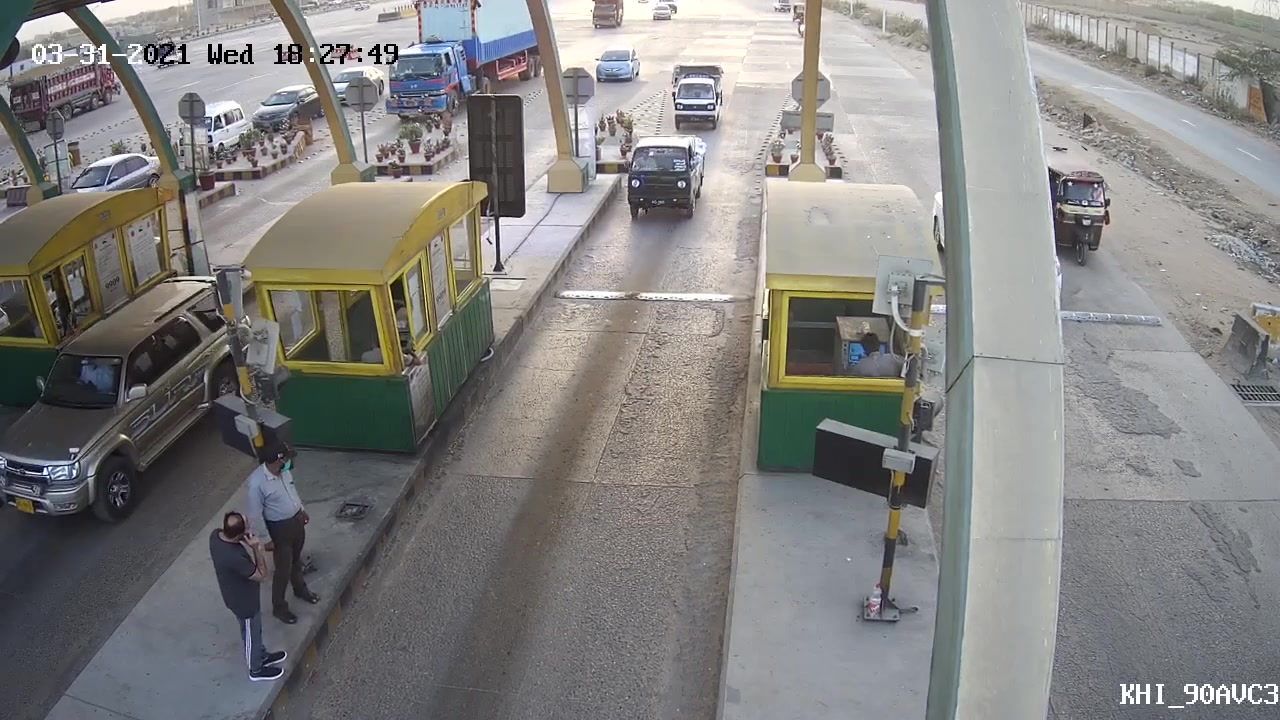F2: (617, 129, 714, 227)
